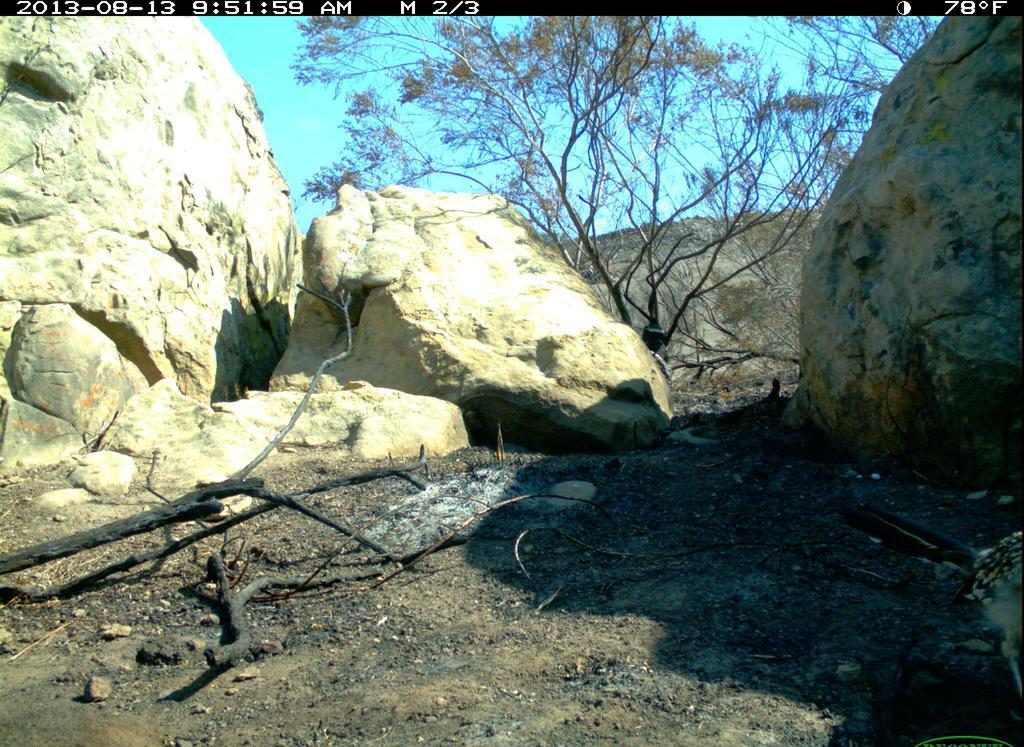bird: (820, 492, 1021, 717)
